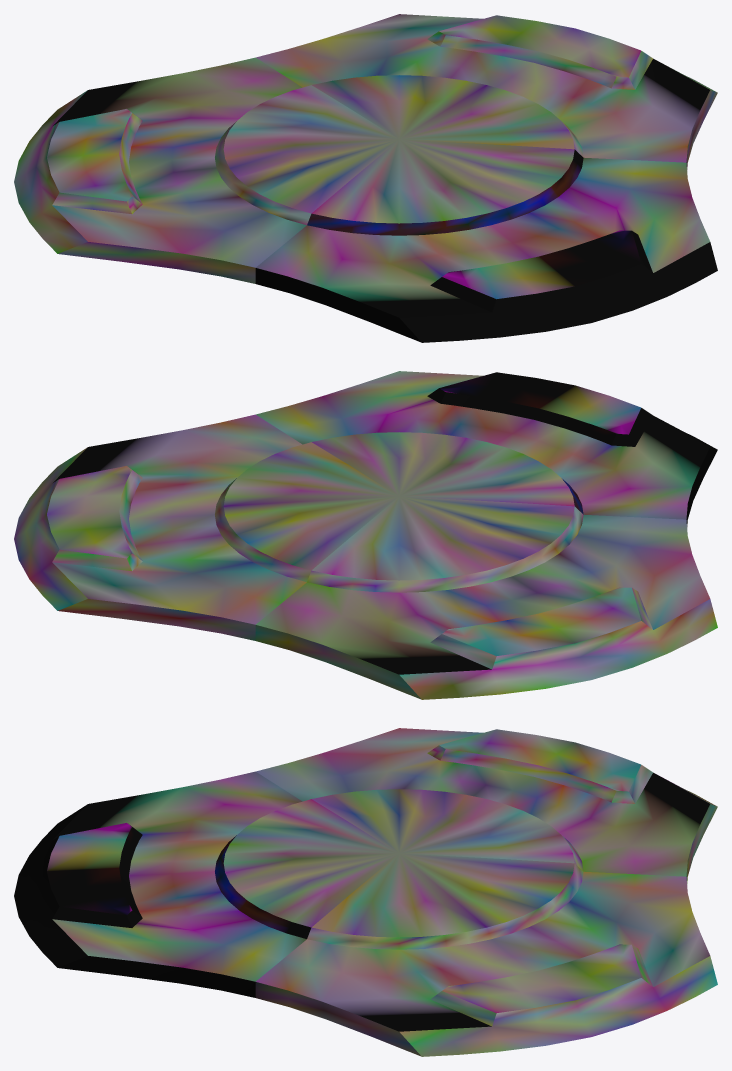
Rendered from BoostPad_Small.gltf.
The picture shows the model from 3 angles, top to bottom: view 1: azimuth 30°, elevation 25°; view 2: azimuth 150°, elevation 25°; view 3: azimuth 270°, elevation 25°; orthographic projection.
Parts seen in each view (by area): view 1: BoostPad_Small; view 2: BoostPad_Small; view 3: BoostPad_Small.
Boxes of the visible parts, x1,y1,x2,y2 form: BoostPad_Small: [14, 14, 717, 342]; BoostPad_Small: [14, 371, 717, 699]; BoostPad_Small: [14, 728, 717, 1056].
Size of the model in its own units: 0.9571 by 0.059 by 0.8836.
